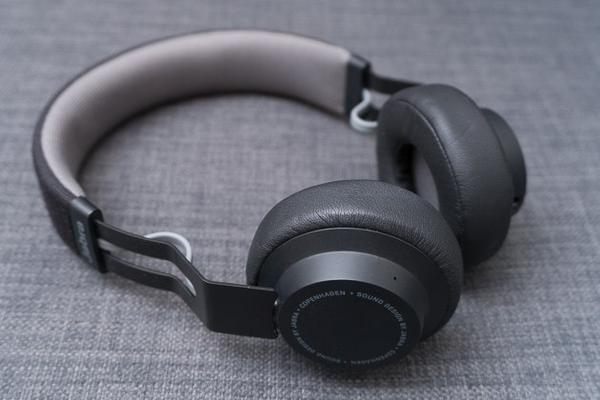headphone: (45, 32, 547, 385)
